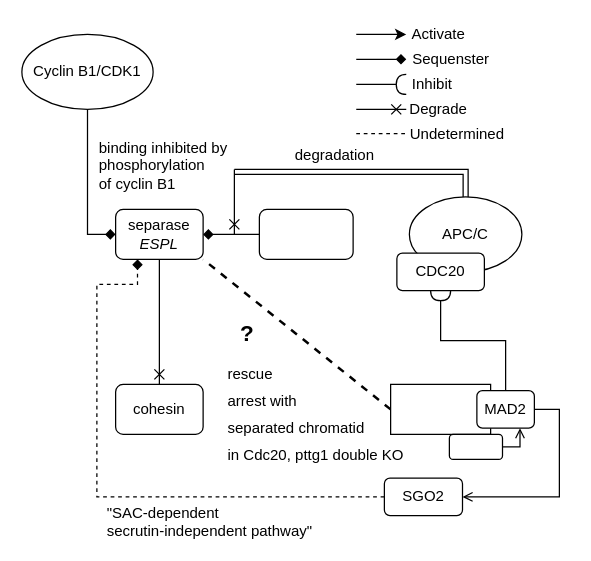
This 591x561 diagram has some shape labels left out. The box of each missing label's shape, as (x1, y1, x2, y2) in pixels:
MAD1: (448, 433, 502, 459)
SAC: (389, 383, 491, 434)
secrutin PTTG: (258, 208, 353, 259)
